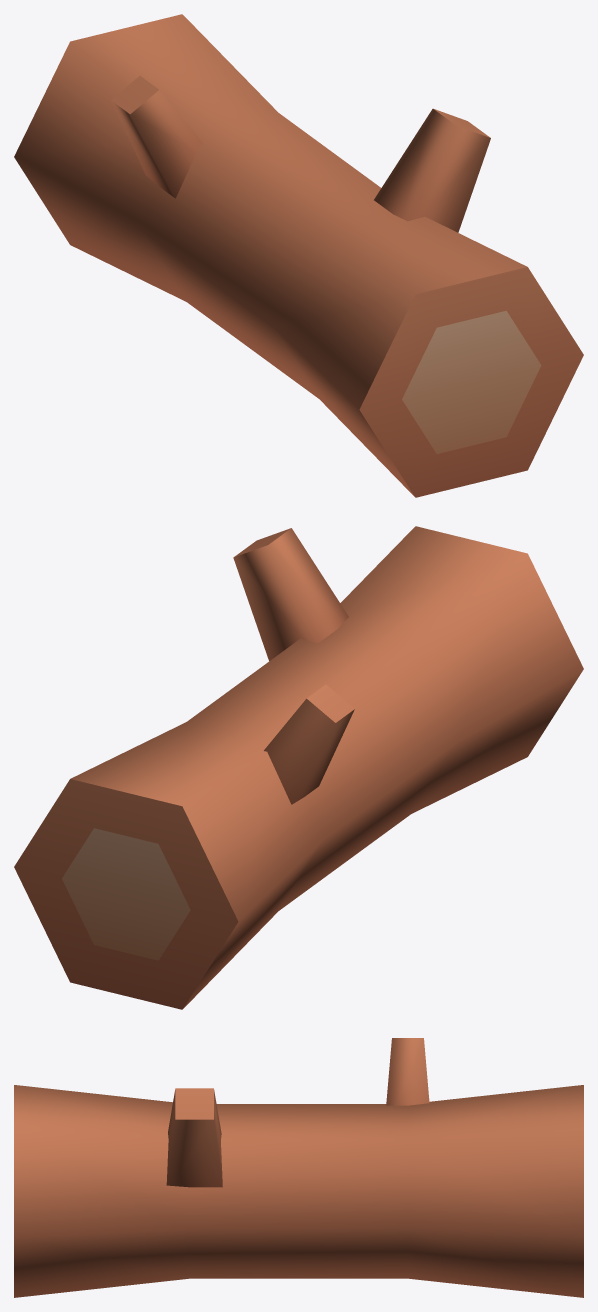
The model's file is tree-log-small.glb.
3 views of the same model, one above another, from view 1: azimuth 30°, elevation 25°; view 2: azimuth 150°, elevation 25°; view 3: azimuth 270°, elevation 25° (orthographic). The views are drawn at different scales.
Parts seen in each view (by area): view 1: tree-log-small; view 2: tree-log-small; view 3: tree-log-small.
Part boxes in pixels (x1,y1,x2,y2): tree-log-small: [14, 14, 583, 497]; tree-log-small: [14, 526, 583, 1009]; tree-log-small: [14, 1038, 583, 1297].
Size of the model in its own units: 0.2495 by 0.2771 by 0.65.
